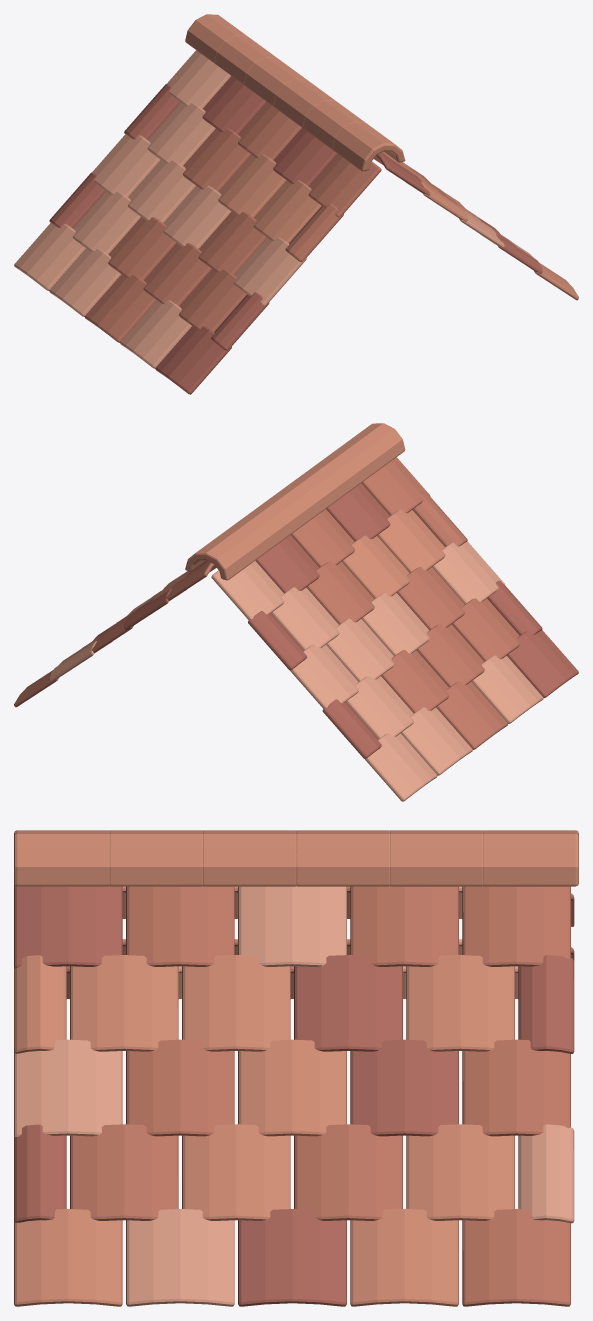
Rendered from roof_gable_2x2m__finish.glb.
3 views of the same model, one above another, from view 1: azimuth 30°, elevation 25°; view 2: azimuth 150°, elevation 25°; view 3: azimuth 270°, elevation 25° (orthographic). The views are drawn at different scales.
Visible parts, largest first — view 1: roof_gable_2x2m__finish__mesh_00; view 2: roof_gable_2x2m__finish__mesh_00; view 3: roof_gable_2x2m__finish__mesh_00.
Boxes of the visible parts, bbox=[...] form: roof_gable_2x2m__finish__mesh_00: bbox=[14, 14, 578, 394]; roof_gable_2x2m__finish__mesh_00: bbox=[14, 423, 578, 801]; roof_gable_2x2m__finish__mesh_00: bbox=[14, 830, 578, 1306].
Bounding box in the file's own units: 2.6 × 1.27 × 2.02.
